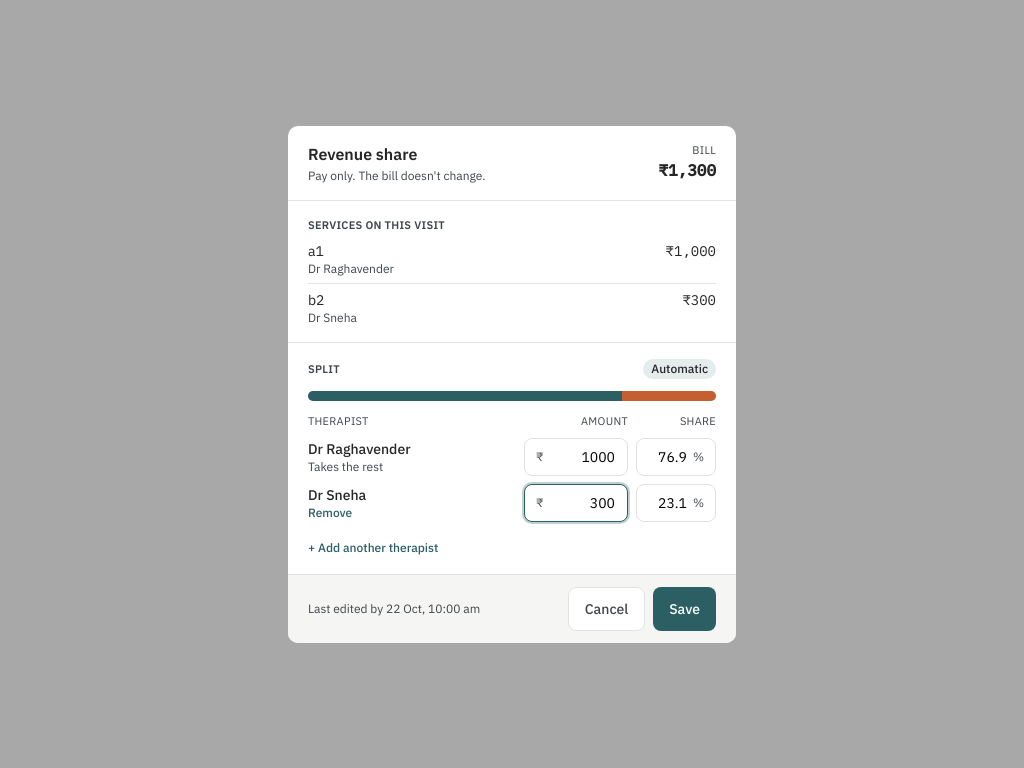
Scenario: RevenueShareEditor › editing % updates ₹ and the remainder
Expected: the text "Takes the rest" is shown, x1=308 y1=458 x2=383 y2=474
Step 1. Replace the text in the number field named "Dr Sneha share in percent" with "50" → (676, 502), box x1=636 y1=484 x2=716 y2=522
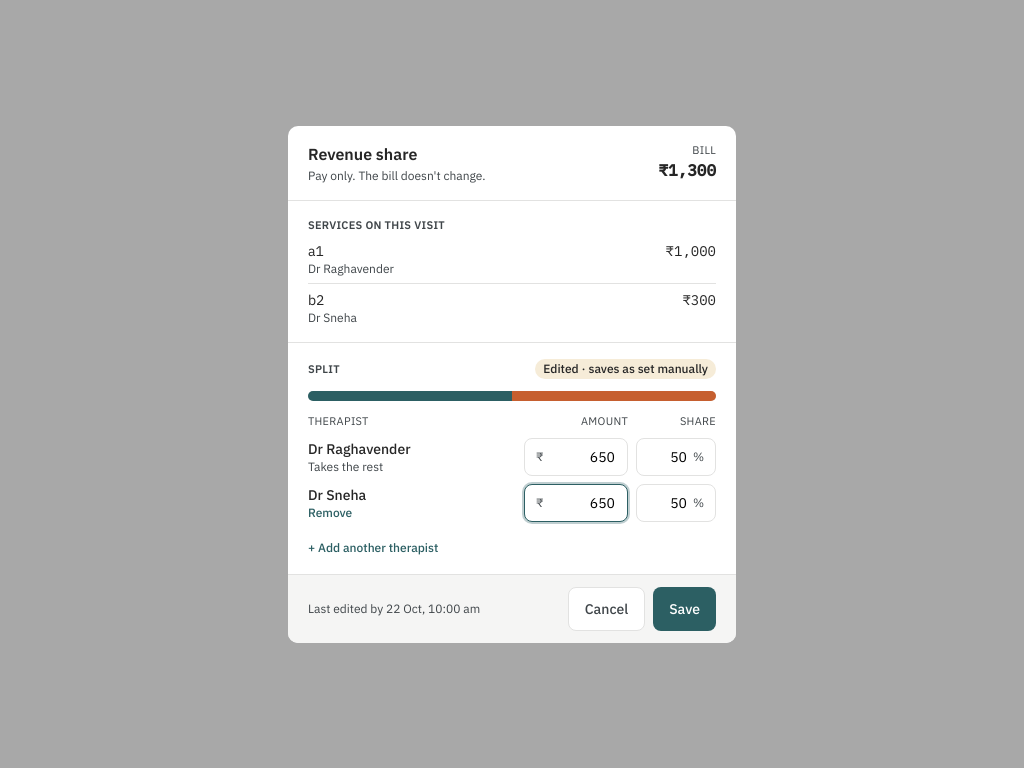
Result: the number field named "Dr Sneha share in rupees" holds "650" at x1=524 y1=484 x2=628 y2=522
Result: the number field named "Dr Raghavender share in rupees" holds "650" at x1=524 y1=438 x2=628 y2=476
